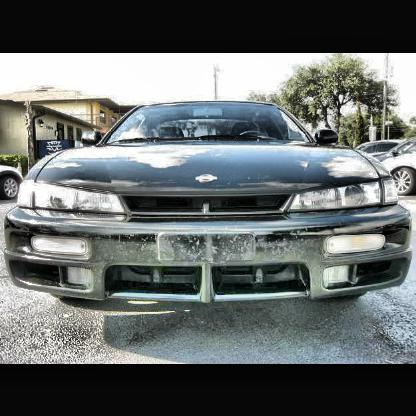Nissan 240SX Coupe 1998: (3, 100, 415, 305)
